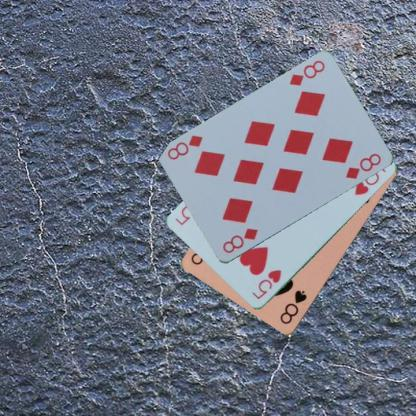5h: (249, 268, 282, 300)
8d: (219, 225, 260, 255), (286, 58, 326, 88)
8s: (278, 288, 309, 326)
